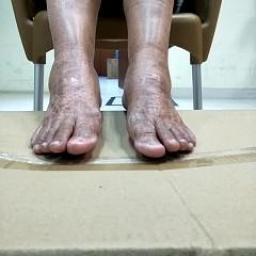Front View -Both Feet-: (19, 14, 212, 187)
